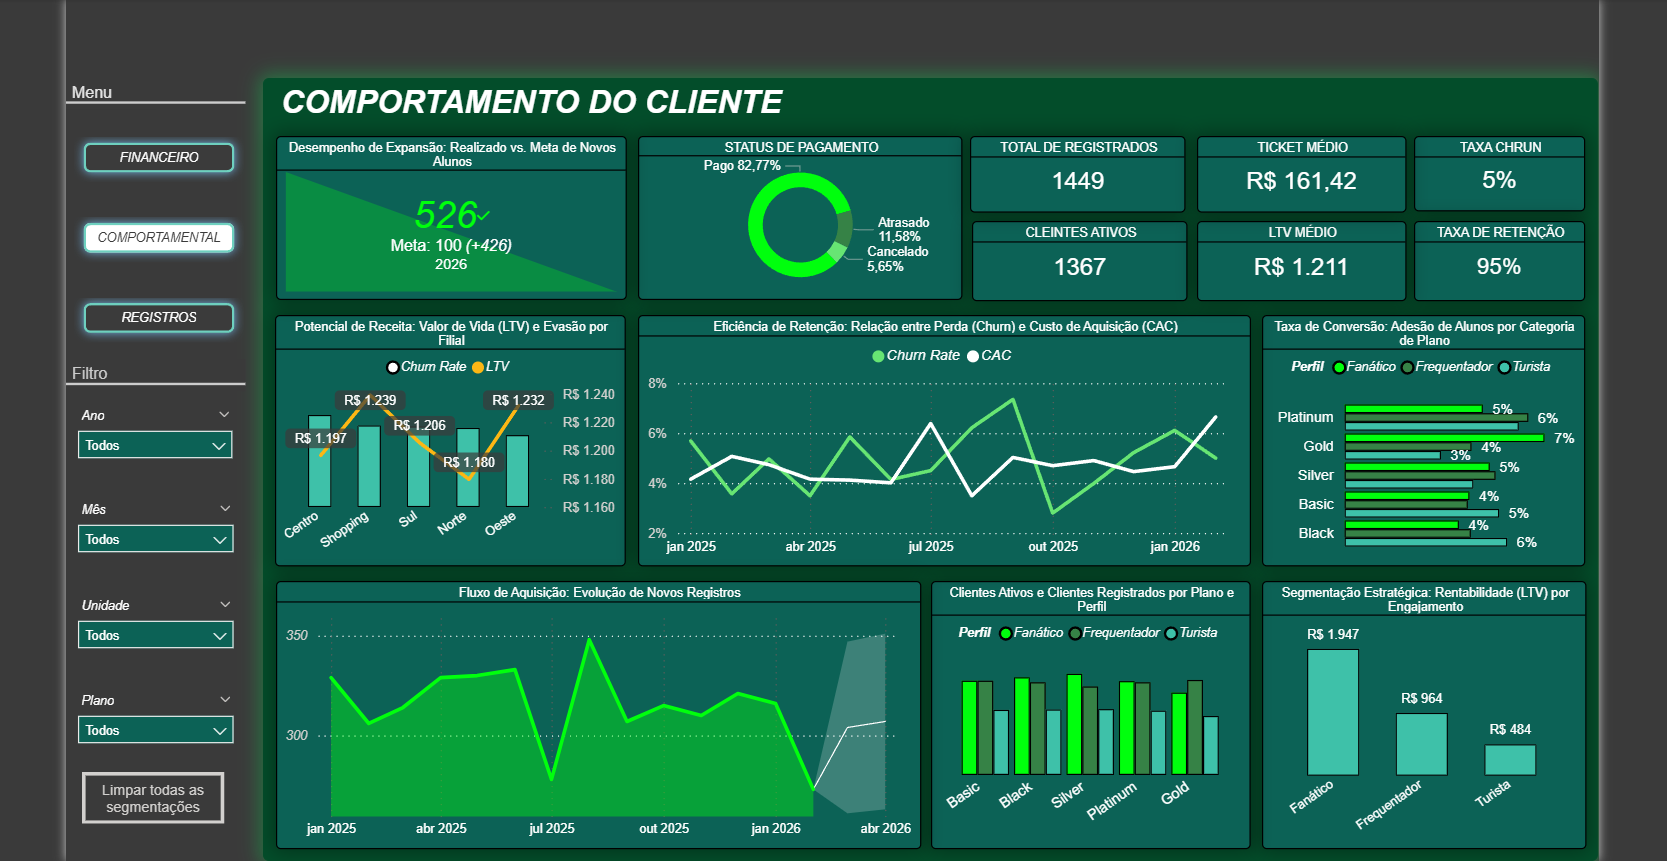

The page's visual inventory and layout, read from the dashboard file:
{"tool":"powerbi","page":{"name":"COMPORTAMENTAL","canvas":[1280,720],"ordinal":1},"visuals":[{"type":"shape","box":[164.9,65.6,1115.5,654.4],"z":0},{"type":"slicer","fields":{"Values":["Base_Academia.Data.Variation.Hierarquia de datas.Ano"]},"box":[0,336.9,149,78],"z":1000},{"type":"columnChart","title":"Segmentação Estratégica: Rentabilidade (LTV) por Engajamento","fields":{"Category":["Base_Academia.Perfil"],"Y":["Medidas.LTV"]},"box":[998.9,486.3,271.4,223.7],"z":2000},{"type":"clusteredBarChart","title":"Taxa de Conversão: Adesão de Alunos por Categoria de Plano","fields":{"Category":["Base_Academia.Plano"],"Y":["Medidas.Churn Rate"],"Series":["Base_Academia.Perfil"]},"box":[999.3,264.2,269.6,210.1],"z":3000},{"type":"clusteredColumnChart","fields":{"Category":["Base_Academia.Plano"],"Y":["Medidas.Clientes Ativos"],"Series":["Base_Academia.Perfil"]},"box":[722.7,486.3,266.5,223.7],"z":4000},{"type":"lineStackedColumnComboChart","title":"Potencial de Receita: Valor de Vida (LTV) e Evasão por Filial","fields":{"Category":["Base_Academia.Unidade"],"Y2":["Medidas.LTV"],"Y":["Medidas.Churn Rate"]},"box":[174.7,264.2,292.6,210.1],"z":5000},{"type":"lineChart","title":"Eficiência de Retenção: Relação entre Perda (Churn) e Custo de Aquisição (CAC)","fields":{"Y":["Medidas.Churn Rate"],"Y2":["Medidas.CAC"],"Category":["Base_Academia.Data.Variation.Hierarquia de datas.Ano","Base_Academia.Data.Variation.Hierarquia de datas.Mês"]},"box":[477.9,264.2,511.6,210.1],"z":6000},{"type":"lineChart","title":"Fluxo de Aquisição: Evolução de Novos Registros","fields":{"Y":["Medidas.Clientes Registrados"],"Category":["Base_Academia.Data.Variation.Hierarquia de datas.Ano","Base_Academia.Data.Variation.Hierarquia de datas.Mês"]},"box":[175.1,486.3,538.8,223.7],"z":7000},{"type":"donutChart","title":"STATUS DE PAGAMENTO","fields":{"Category":["Base_Academia.Status"],"Y":["Count(Base_Academia.ID_Transacao)"]},"box":[477.9,114.4,271.3,137.4],"z":8000},{"type":"card","title":"CLEINTES ATIVOS","fields":{"Values":["Medidas.Clientes Ativos"]},"box":[756.4,185.3,180,66.5],"z":9000},{"type":"card","title":"TAXA CHRUN","fields":{"Values":["Medidas.Churn Rate"]},"box":[1126.3,114.8,143,63.2],"z":10000},{"type":"card","title":"TAXA DE RETENÇÃO","fields":{"Values":["Medidas.Taxa de Retenção %"]},"box":[1126.1,185.3,142.8,66.5],"z":11000},{"type":"card","title":"LTV MÉDIO","fields":{"Values":["Medidas.LTV"]},"box":[944.3,185.3,174.7,66.5],"z":12000},{"type":"kpi","title":"Desempenho de Expansão: Realizado vs. Meta de Novos Alunos","fields":{"Goal":["Medidas.Meta cliente"],"Indicator":["Medidas.Clientes Registrados"],"TrendLine":["Base_Academia.Data.Variation.Hierarquia de datas.Ano"]},"box":[175.1,114.8,292.8,137.1],"z":13000},{"type":"textbox","box":[174.7,65.6,465.5,46.1],"z":14000},{"type":"slicer","fields":{"Values":["Base_Academia.Data.Variation.Hierarquia de datas.Mês"]},"box":[0,415,149.9,58.5],"z":15000},{"type":"slicer","fields":{"Values":["Base_Academia.Unidade"]},"box":[0,495.7,149.9,56.7],"z":16000},{"type":"slicer","fields":{"Values":["Base_Academia.Plano"]},"box":[0,574.6,149.9,64.7],"z":17000},{"type":"textbox","box":[0,300.6,149.9,27.5],"z":18000},{"type":"shape","box":[0,314.8,149.9,13.3],"z":19000},{"type":"actionButton","box":[13.3,645.5,118.8,43.4],"z":20000},{"type":"pageNavigator","box":[7.1,111.7,142.8,177.3],"z":21000},{"type":"textbox","box":[0,65.6,75.4,25.7],"z":22000},{"type":"shape","box":[0,78.9,149.9,16],"z":23000},{"type":"card","title":"TOTAL DE REGISTRADOS","fields":{"Values":["Medidas.Clientes Registrados"]},"box":[755.5,114.4,180,63.8],"z":23001},{"type":"card","title":"TICKET MÉDIO","fields":{"Values":["Medidas.Ticket Médio"]},"box":[944.3,114.4,174.7,63.8],"z":23002}]}

Visuals, with their boxes on the page's 1280x720 design canvas (x1, y1, x2, y2). These are canvas units, not pixel positions in the 1667x861 screenshot, which may show the page scaled, cropped or inside an application window:
shape: (165,66,1280,720)
slicer - Base_Academia.Data.Variation.Hierarquia de datas.Ano: (0,337,149,415)
"Segmentação Estratégica: Rentabilidade (LTV) por Engajamento" columnChart: (999,486,1270,710)
"Taxa de Conversão: Adesão de Alunos por Categoria de Plano" clusteredBarChart: (999,264,1269,474)
clusteredColumnChart - Base_Academia.Plano x Medidas.Clientes Ativos: (723,486,989,710)
"Potencial de Receita: Valor de Vida (LTV) e Evasão por Filial" lineStackedColumnComboChart: (175,264,467,474)
"Eficiência de Retenção: Relação entre Perda (Churn) e Custo de Aquisição (CAC)" lineChart: (478,264,990,474)
"Fluxo de Aquisição: Evolução de Novos Registros" lineChart: (175,486,714,710)
"STATUS DE PAGAMENTO" donutChart: (478,114,749,252)
"CLEINTES ATIVOS" card: (756,185,936,252)
"TAXA CHRUN" card: (1126,115,1269,178)
"TAXA DE RETENÇÃO" card: (1126,185,1269,252)
"LTV MÉDIO" card: (944,185,1119,252)
"Desempenho de Expansão: Realizado vs. Meta de Novos Alunos" kpi: (175,115,468,252)
textbox: (175,66,640,112)
slicer - Base_Academia.Data.Variation.Hierarquia de datas.Mês: (0,415,150,474)
slicer - Base_Academia.Unidade: (0,496,150,552)
slicer - Base_Academia.Plano: (0,575,150,639)
textbox: (0,301,150,328)
shape: (0,315,150,328)
actionButton: (13,646,132,689)
pageNavigator: (7,112,150,289)
textbox: (0,66,75,91)
shape: (0,79,150,95)
"TOTAL DE REGISTRADOS" card: (756,114,936,178)
"TICKET MÉDIO" card: (944,114,1119,178)
